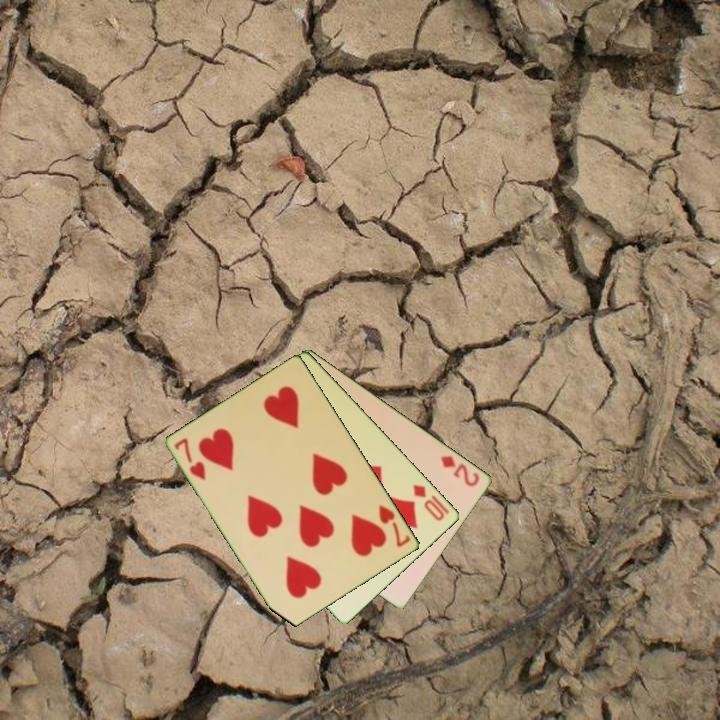10d: (410, 481, 448, 524)
2d: (437, 452, 483, 490)
7h: (375, 501, 414, 550), (171, 434, 209, 484)
